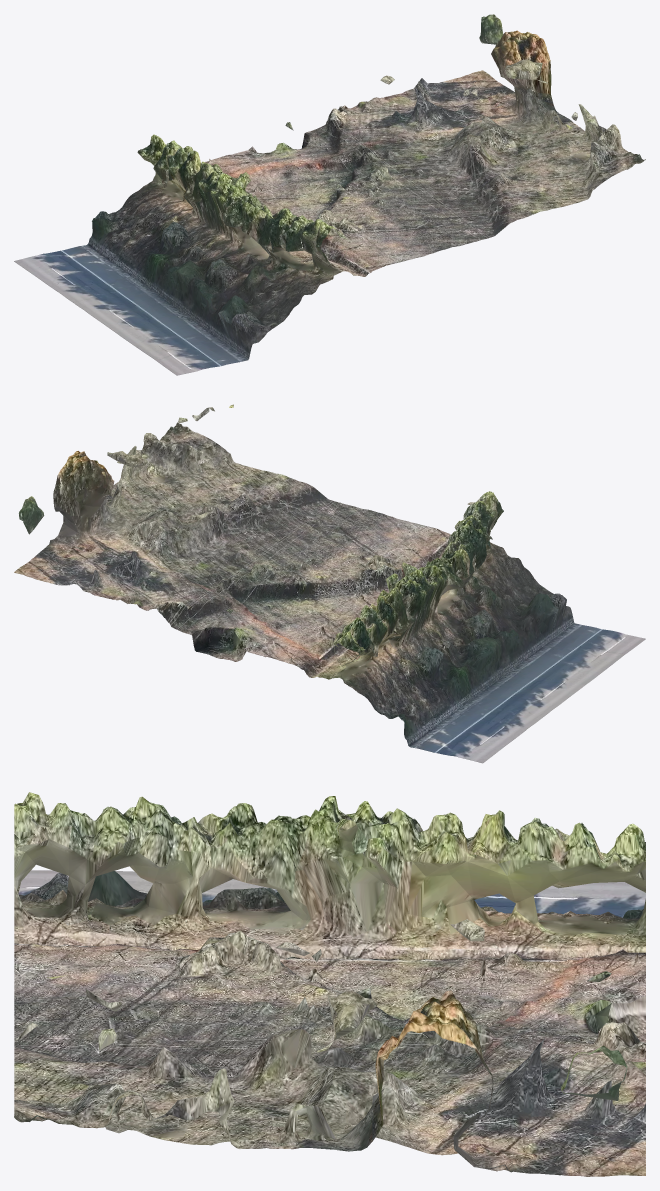
File: BlockBY_L19_77.glb
3 renders of one model, top to bottom at view 1: azimuth 30°, elevation 25°; view 2: azimuth 150°, elevation 25°; view 3: azimuth 270°, elevation 25°, orthographic. The views are drawn at different scales.
Visible parts, largest first — view 1: rtc; view 2: rtc; view 3: rtc.
Boxes of the visible parts, x1,y1,x2,y2 form: rtc: [14, 14, 645, 375]; rtc: [14, 404, 645, 763]; rtc: [14, 792, 645, 1176].
Bounding box in the file's own units: 68.71 × 22.47 × 41.38.
2 materials, 2 textured.
